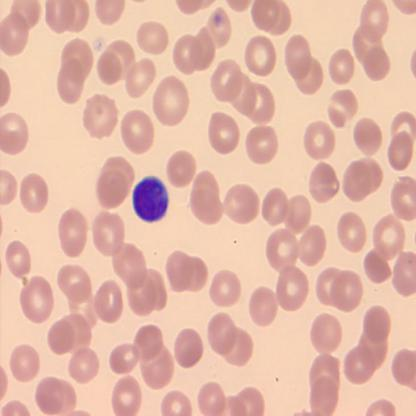Lymphocyte: (132, 175, 168, 221)
